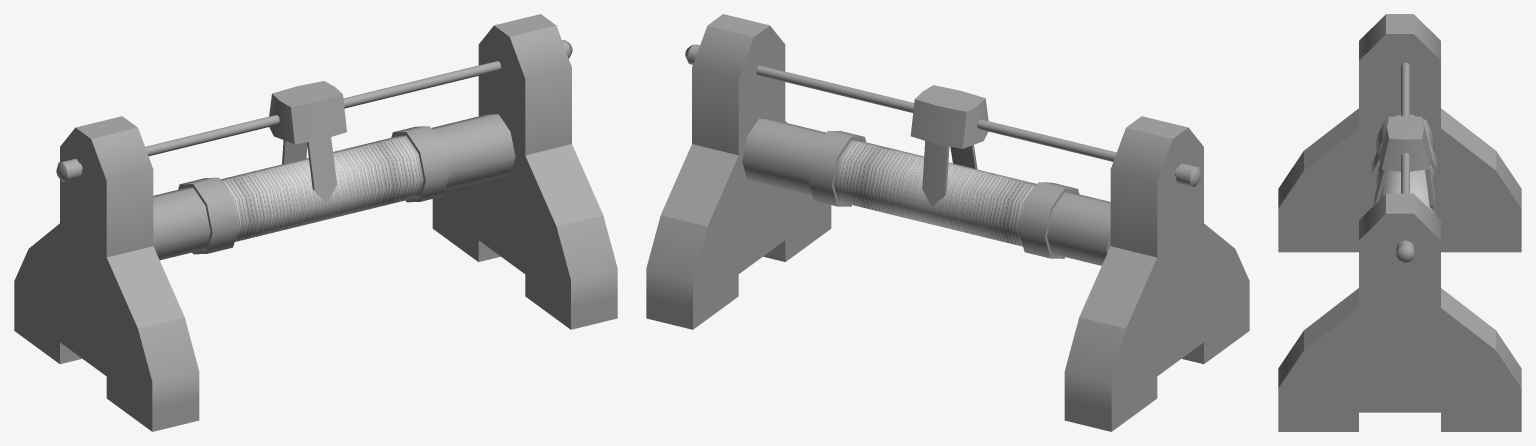
The model's file is Rheostat.fbx.
The picture shows the model from 3 angles, left to right: view 1: azimuth 30°, elevation 25°; view 2: azimuth 150°, elevation 25°; view 3: azimuth 270°, elevation 25°; orthographic projection. The views are drawn at different scales.
Parts seen in each view (by area): view 1: pCube6, pCube7; view 2: pCube6, pCube7; view 3: pCube6, pCube7.
Part boxes in pixels (bbox=[...]): pCube6: bbox=[14, 14, 617, 431]; pCube7: bbox=[269, 81, 346, 202]; pCube6: bbox=[646, 14, 1249, 431]; pCube7: bbox=[910, 85, 988, 207]; pCube6: bbox=[1278, 14, 1521, 431]; pCube7: bbox=[1373, 116, 1435, 213].
Size of the model in its own units: 326 by 151 by 153.
Materials: 5 (1 with a texture image).
